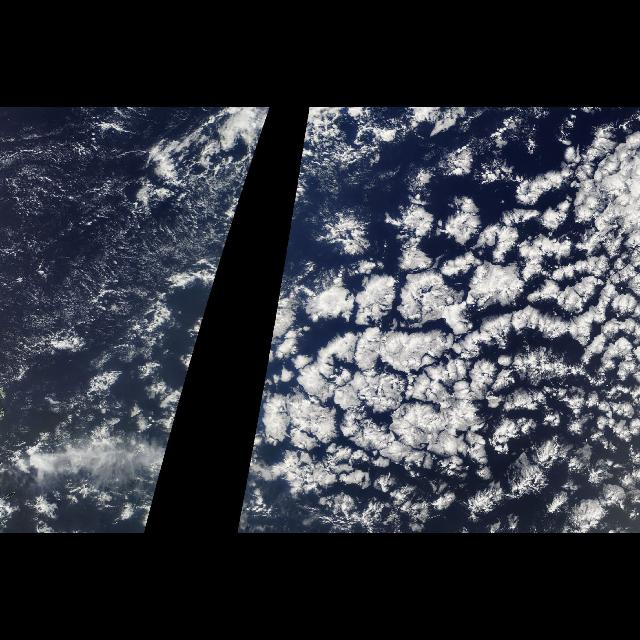Flower: (272, 206, 636, 532)
Sugar: (4, 109, 130, 329), (138, 220, 222, 264)
